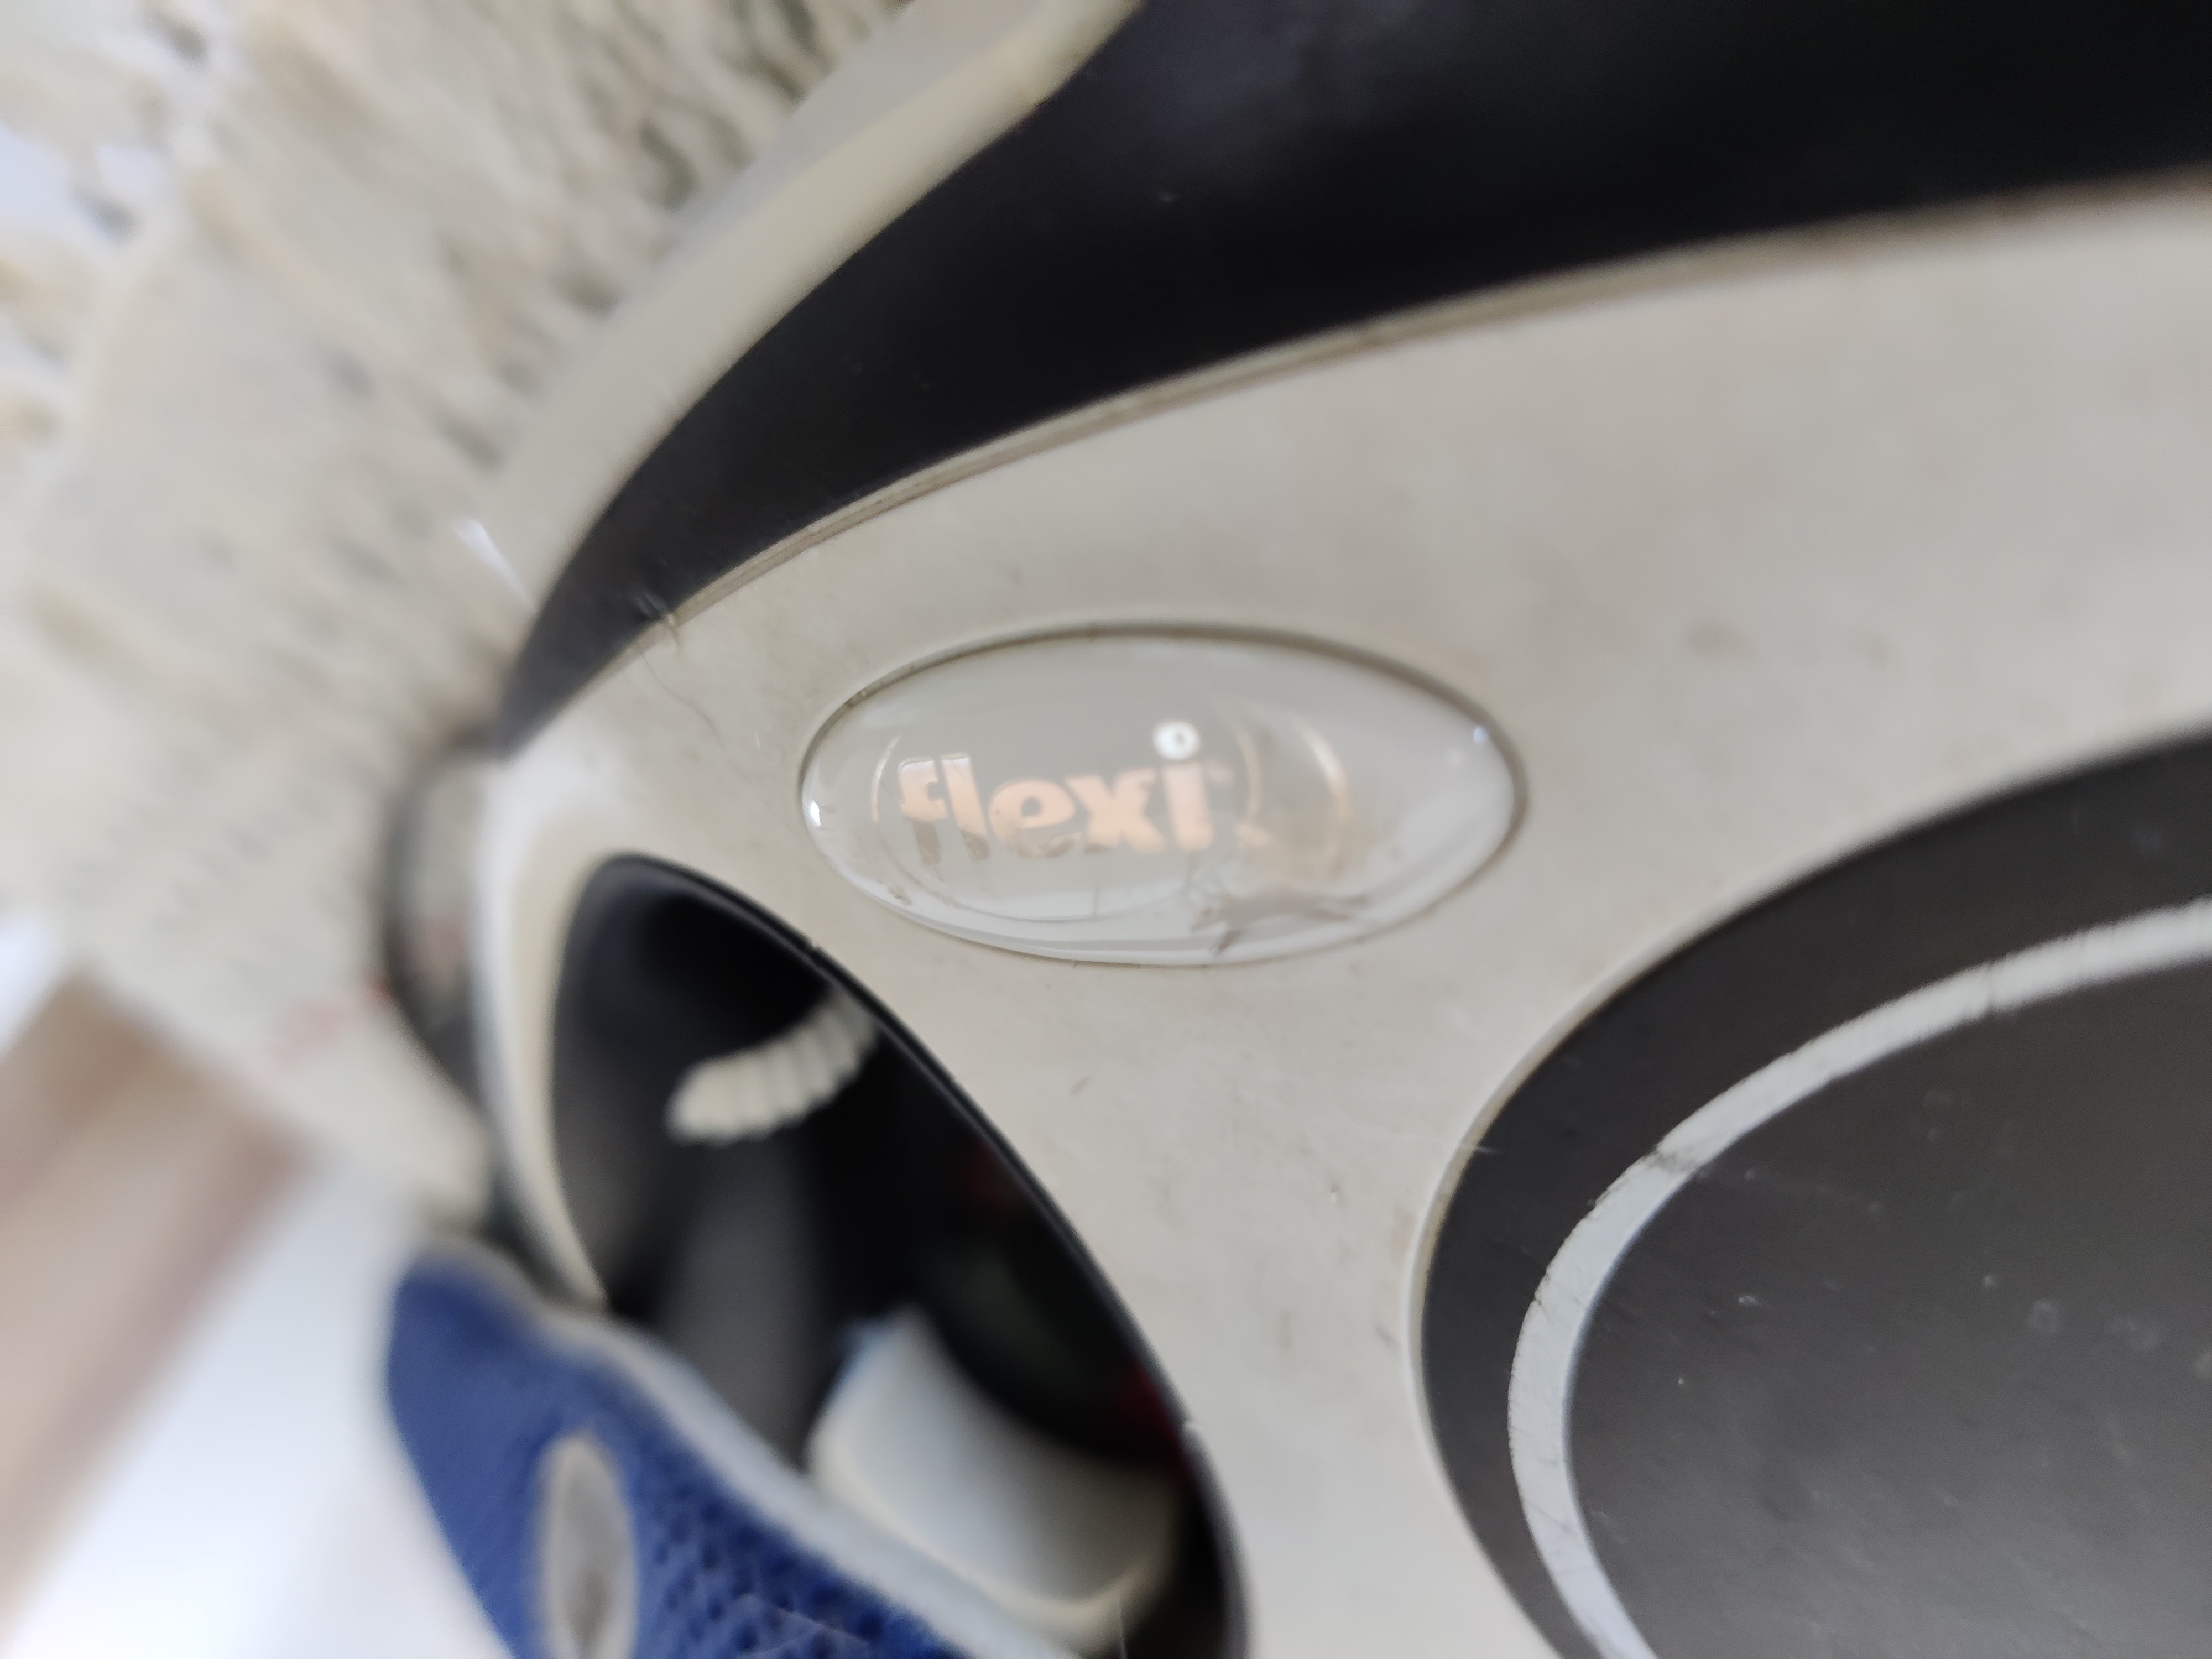Dog: (1181, 824, 1364, 964)
